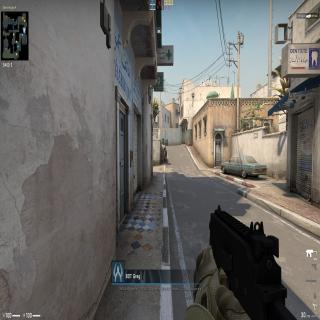T-Head: (164, 146, 166, 150)
